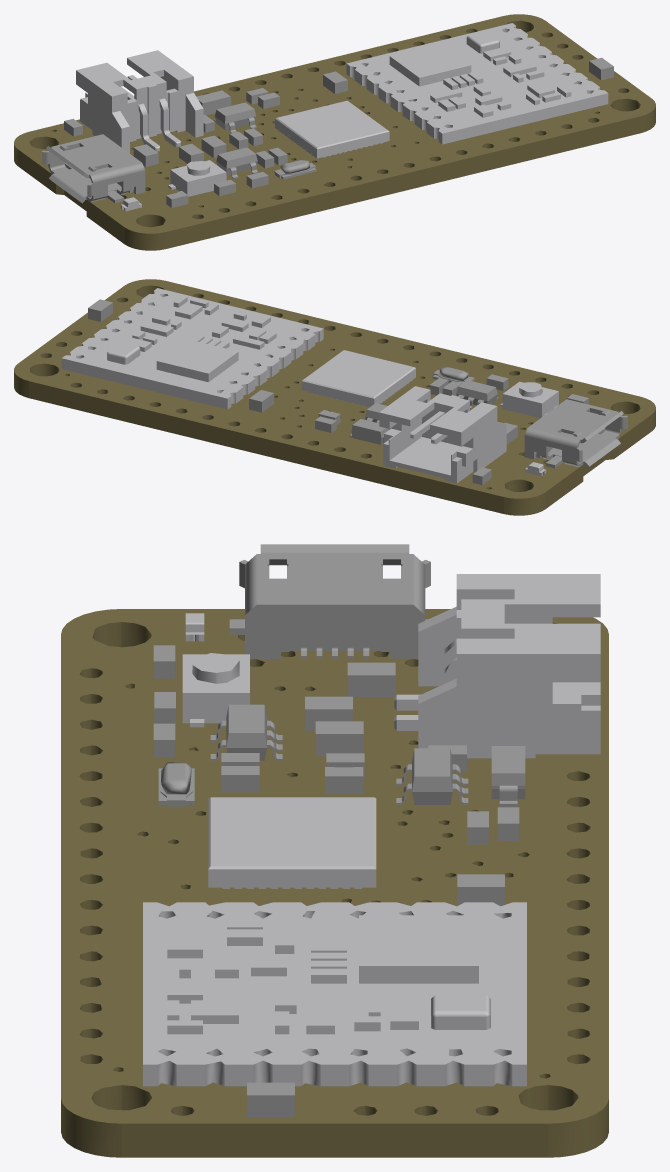
The model's file is ada-3178.glb.
3 views of the same model, one above another, from view 1: azimuth 30°, elevation 25°; view 2: azimuth 150°, elevation 25°; view 3: azimuth 270°, elevation 25° (orthographic). The views are drawn at different scales.
Visible parts, largest first — view 1: 0.16666666666666666_0.16666666666666666_0.08333333333333333_, 0.5833333333333334_0.5833333333333334_0.5833333333333334_0.8, 0.3333333333333333_0.3333333333333333_0.3333333333333333_0; view 2: 0.16666666666666666_0.16666666666666666_0.08333333333333333_, 0.5833333333333334_0.5833333333333334_0.5833333333333334_0.8, 0.3333333333333333_0.3333333333333333_0.3333333333333333_0; view 3: 0.16666666666666666_0.16666666666666666_0.08333333333333333_, 0.5833333333333334_0.5833333333333334_0.5833333333333334_0.8, 0.3333333333333333_0.3333333333333333_0.3333333333333333_0.
Part boxes in pixels (x1=…): 0.16666666666666666_0.16666666666666666_0.08333333333333333_: x1=14, y1=14, x2=655, y2=250; 0.5833333333333334_0.5833333333333334_0.5833333333333334_0.8: x1=76, y1=23, x2=608, y2=211; 0.3333333333333333_0.3333333333333333_0.3333333333333333_0: x1=42, y1=57, x2=613, y2=207; 0.16666666666666666_0.16666666666666666_0.08333333333333333_: x1=14, y1=279, x2=655, y2=515; 0.5833333333333334_0.5833333333333334_0.5833333333333334_0.8: x1=61, y1=288, x2=558, y2=483; 0.3333333333333333_0.3333333333333333_0.3333333333333333_0: x1=88, y1=299, x2=627, y2=484; 0.16666666666666666_0.16666666666666666_0.08333333333333333_: x1=61, y1=609, x2=608, y2=1157; 0.5833333333333334_0.5833333333333334_0.5833333333333334_0.8: x1=143, y1=574, x2=600, y2=1086; 0.3333333333333333_0.3333333333333333_0.3333333333333333_0: x1=153, y1=544, x2=525, y2=1116.
Size of the model in its own units: 5.14 by 0.6369 by 2.29.
